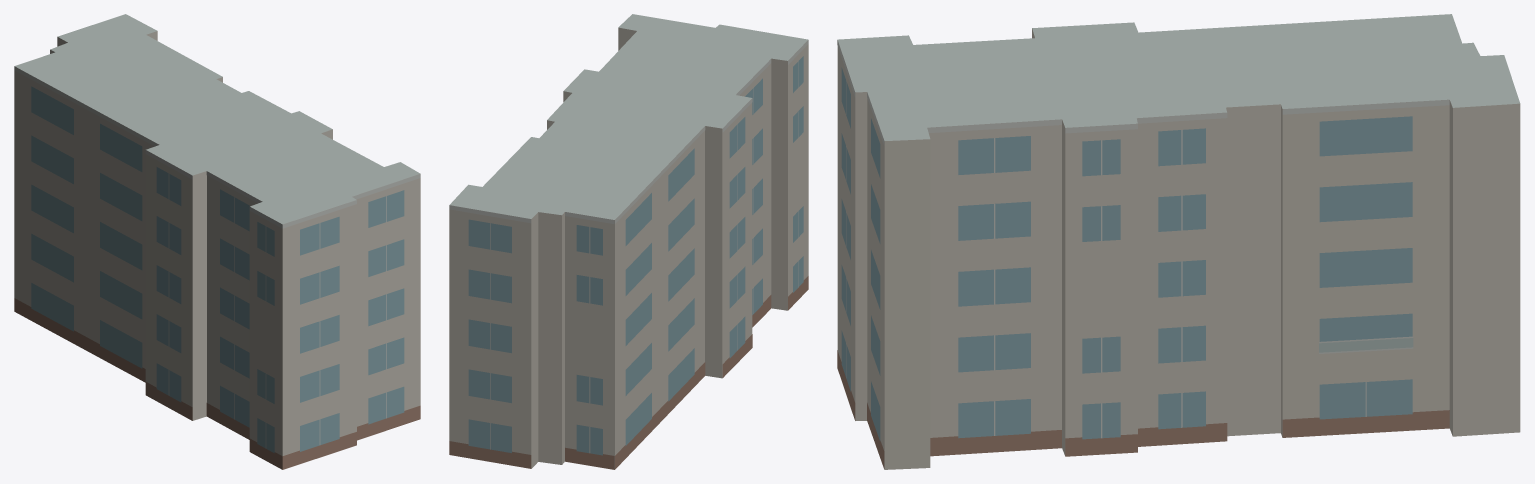
The model's file is survey-upis-32704242.glb.
The picture shows the model from 3 angles, left to right: view 1: azimuth 30°, elevation 25°; view 2: azimuth 150°, elevation 25°; view 3: azimuth 270°, elevation 25°; orthographic projection. The views are drawn at different scales.
Visible parts, largest first — view 1: survey-upis-32704242.tmp; view 2: survey-upis-32704242.tmp; view 3: survey-upis-32704242.tmp.
Part boxes in pixels (bbox=[...]): survey-upis-32704242.tmp: bbox=[14, 14, 420, 469]; survey-upis-32704242.tmp: bbox=[449, 14, 808, 469]; survey-upis-32704242.tmp: bbox=[837, 14, 1520, 469].
Size of the model in its own units: 11.86 by 14.3 by 26.93.
